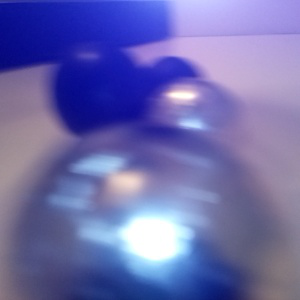alive_ball: (14, 122, 284, 300), (144, 77, 239, 171)
dead_ball: (51, 43, 146, 139), (139, 57, 198, 117)
